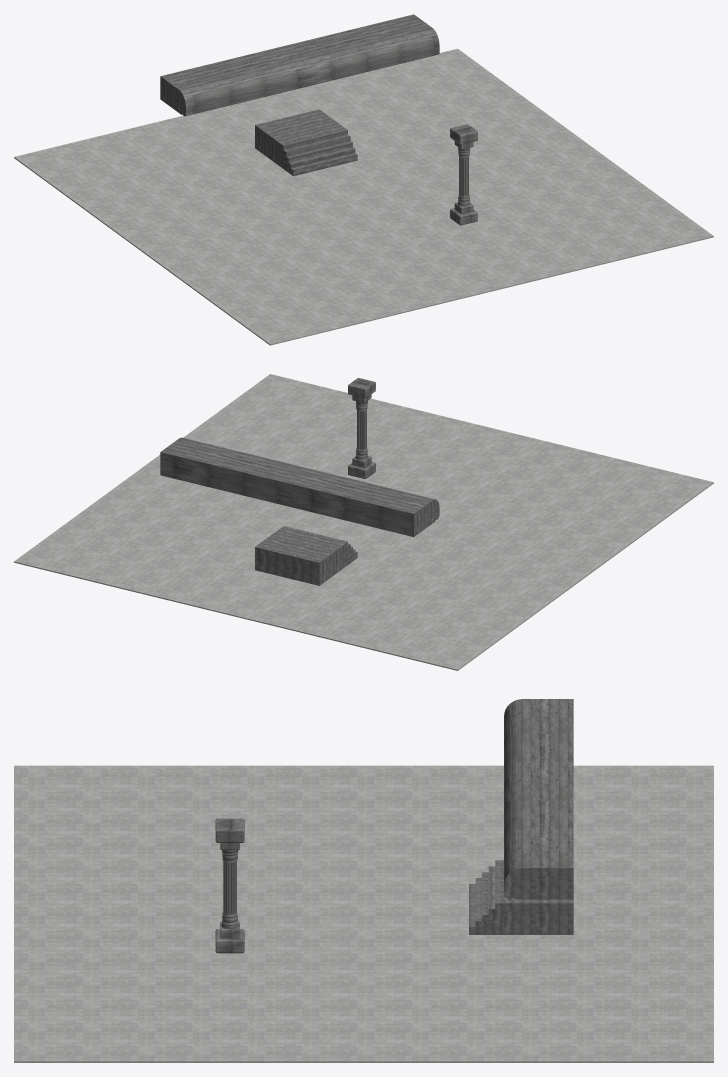
The picture shows the model from 3 angles, top to bottom: view 1: azimuth 30°, elevation 25°; view 2: azimuth 150°, elevation 25°; view 3: azimuth 270°, elevation 25°; orthographic projection. The views are drawn at different scales.
Visible parts, largest first — view 1: Floor, Upper Part, Stairs, Rasied Floor, Pillar; view 2: Floor, Upper Part, Rasied Floor, Pillar; view 3: Floor, Upper Part, Pillar, Rasied Floor, Stairs.
Boxes of the visible parts, x1,y1,x2,y2 form: Floor: [14, 48, 713, 345]; Upper Part: [160, 14, 439, 116]; Stairs: [280, 128, 357, 176]; Rasied Floor: [255, 109, 344, 166]; Pillar: [450, 124, 477, 225]; Floor: [14, 374, 713, 670]; Upper Part: [160, 437, 439, 536]; Rasied Floor: [255, 528, 344, 585]; Pillar: [348, 378, 375, 478]; Floor: [14, 765, 713, 1062]; Upper Part: [504, 699, 573, 899]; Pillar: [215, 818, 244, 953]; Rasied Floor: [504, 896, 573, 934]; Stairs: [469, 860, 503, 934].
Bounding box in the file's own units: 4000 × 829 × 4000.
Materials: 2 (2 with a texture image).
